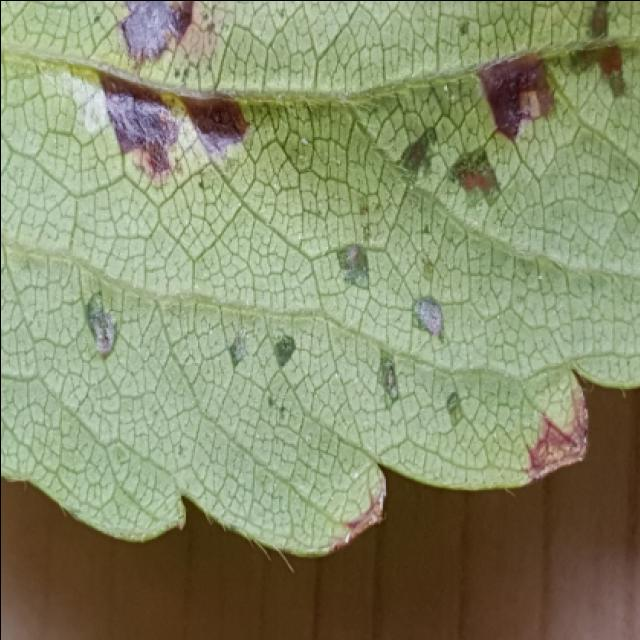Angular Leafspot: (32, 2, 638, 553)
